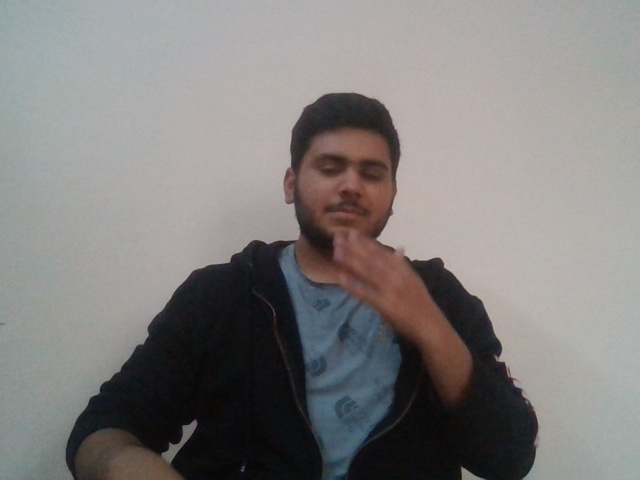Thanks: (278, 198, 436, 290)
